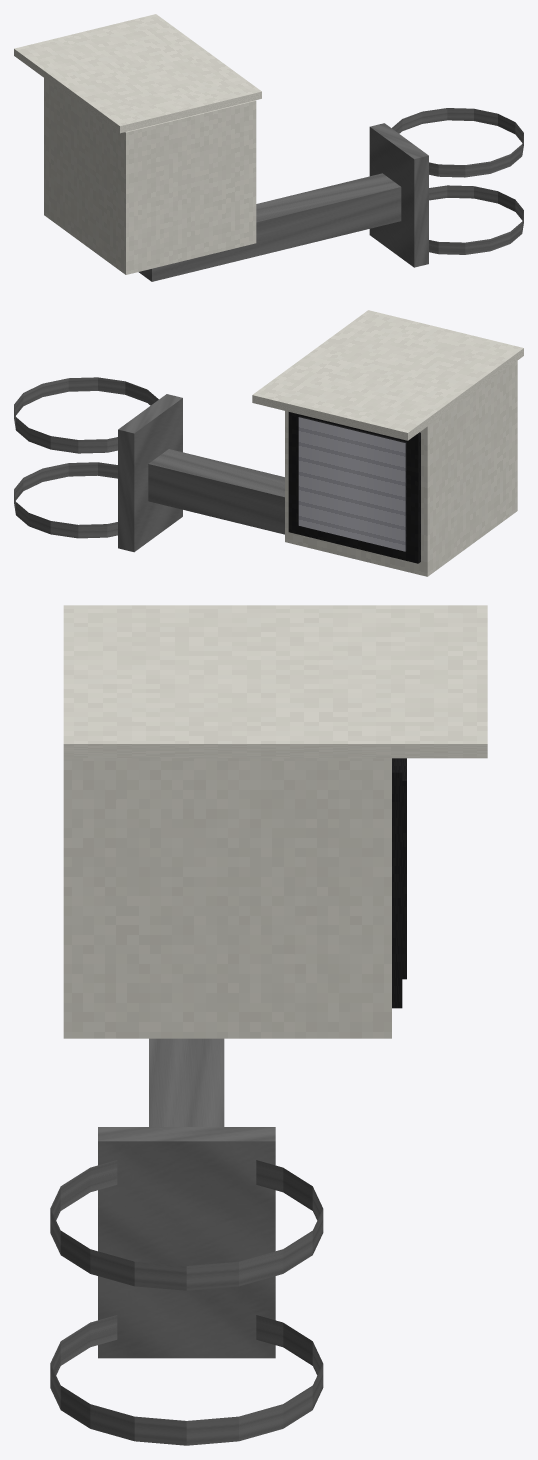
The model's file is flash_unit_side_right_pedestal.obj.
3 views of the same model, one above another, from view 1: azimuth 30°, elevation 25°; view 2: azimuth 150°, elevation 25°; view 3: azimuth 270°, elevation 25° (orthographic). The views are drawn at different scales.
Visible parts, largest first — view 1: flash_unit_side_right_pedestal; view 2: flash_unit_side_right_pedestal; view 3: flash_unit_side_right_pedestal.
Part boxes in pixels (x1,y1,x2,y2): flash_unit_side_right_pedestal: (14,14,523,281); flash_unit_side_right_pedestal: (14,310,523,576); flash_unit_side_right_pedestal: (50,605,487,1445).
Bounding box in the file's own units: 1.44 × 0.715 × 0.6395.
